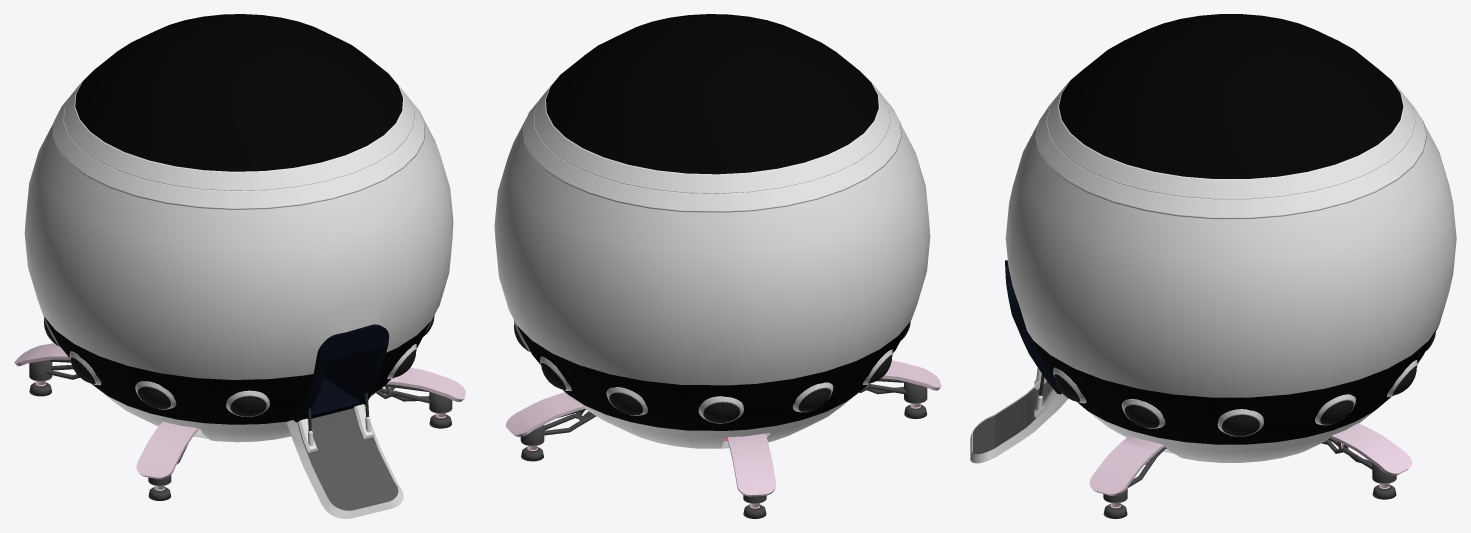
The model's file is CapsuleGuko.fbx.
3 views of the same model, side by side, from view 1: azimuth 30°, elevation 25°; view 2: azimuth 150°, elevation 25°; view 3: azimuth 270°, elevation 25° (orthographic). The views are drawn at different scales.
Parts seen in each view (by area): view 1: Sphere.001, DoorOpen.001, Feet.001, Body.001, Window.001; view 2: Sphere.001, Feet.001, Window.001; view 3: Sphere.001, Feet.001, Window.001, DoorOpen.001, Body.001.
Part boxes in pixels (left/top/right/bottom): Sphere.001: left=24, top=14, right=453, bottom=442; DoorOpen.001: left=286, top=393, right=403, bottom=518; Feet.001: left=14, top=343, right=465, bottom=500; Body.001: left=293, top=324, right=389, bottom=422; Window.001: left=44, top=315, right=434, bottom=417; Sphere.001: left=494, top=14, right=930, bottom=448; Feet.001: left=506, top=360, right=941, bottom=518; Window.001: left=514, top=320, right=910, bottom=423; Sphere.001: left=1005, top=14, right=1456, bottom=462; Feet.001: left=1089, top=423, right=1412, bottom=518; Window.001: left=1053, top=332, right=1435, bottom=436; DoorOpen.001: left=970, top=367, right=1068, bottom=463; Body.001: left=1005, top=260, right=1061, bottom=394.
Bounding box in the file's own units: 1156 × 1178 × 1253.
